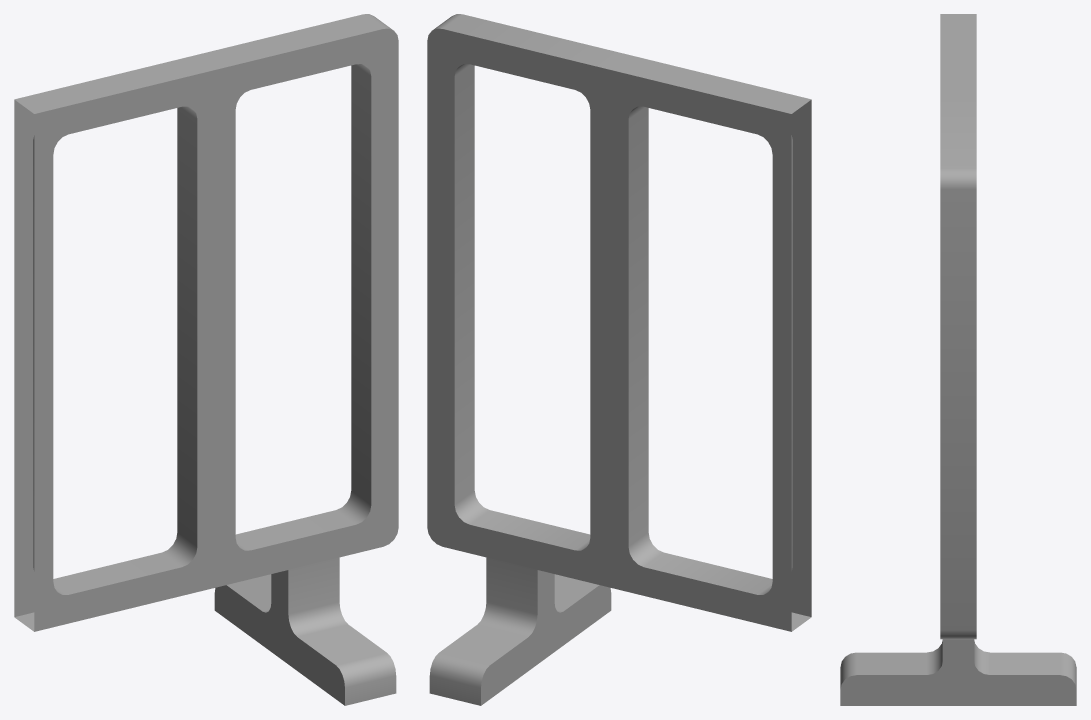
The model's file is Fence C.fbx.
3 views of the same model, side by side, from view 1: azimuth 30°, elevation 25°; view 2: azimuth 150°, elevation 25°; view 3: azimuth 270°, elevation 25° (orthographic). The views are drawn at different scales.
Visible parts, largest first — view 1: Fence C; view 2: Fence C; view 3: Fence C.
Boxes of the visible parts, box(x1,y1,x2,y2) form: Fence C: box(14, 14, 398, 705); Fence C: box(427, 14, 811, 705); Fence C: box(840, 14, 1076, 705).
Size of the model in its own units: 75.67 by 122 by 46.84.
